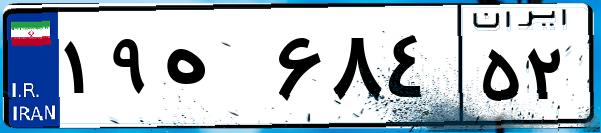1: (57, 26, 110, 100)
2: (525, 38, 570, 115)
4: (385, 28, 445, 110)
5: (475, 38, 525, 113)
6: (270, 28, 330, 110)
8: (330, 28, 385, 110)
9: (110, 28, 158, 98)
ه: (158, 20, 270, 120)
